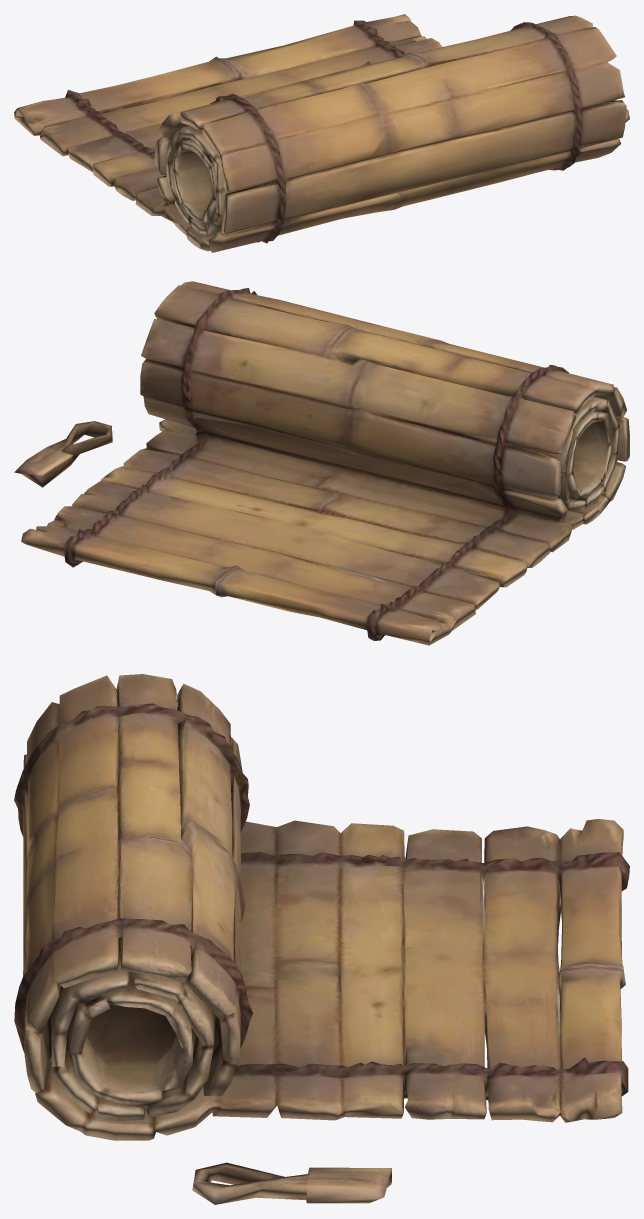
3 views of the same model, one above another, from view 1: azimuth 30°, elevation 25°; view 2: azimuth 150°, elevation 25°; view 3: azimuth 270°, elevation 25° (orthographic). The views are drawn at different scales.
Parts seen in each view (by area): view 1: tripo_node_67e2de46-18fe-4045-ab07-73cb81c42229; view 2: tripo_node_67e2de46-18fe-4045-ab07-73cb81c42229; view 3: tripo_node_67e2de46-18fe-4045-ab07-73cb81c42229.
Part boxes in pixels (x1=…): tripo_node_67e2de46-18fe-4045-ab07-73cb81c42229: x1=14, y1=14, x2=629, y2=252; tripo_node_67e2de46-18fe-4045-ab07-73cb81c42229: x1=14, y1=281, x2=629, y2=645; tripo_node_67e2de46-18fe-4045-ab07-73cb81c42229: x1=14, y1=674, x2=629, y2=1204.
Size of the model in its own units: 1 by 0.2782 by 0.7578.
Materials: 1 (1 with a texture image).
